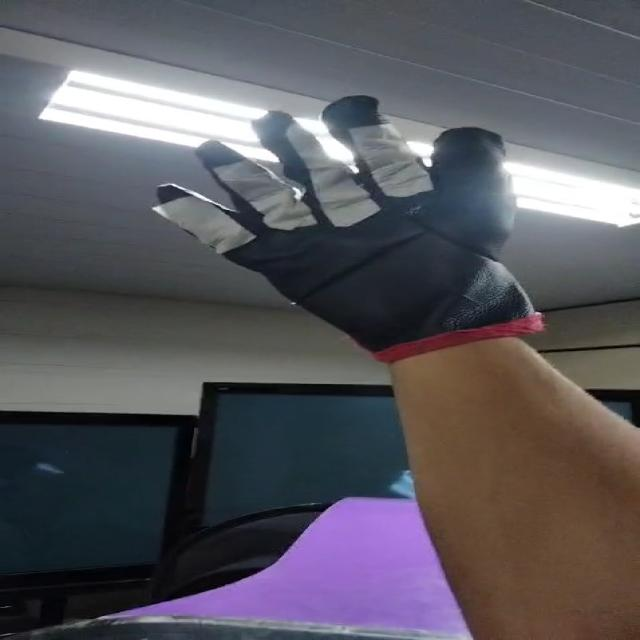Gloves: (151, 92, 542, 346)
